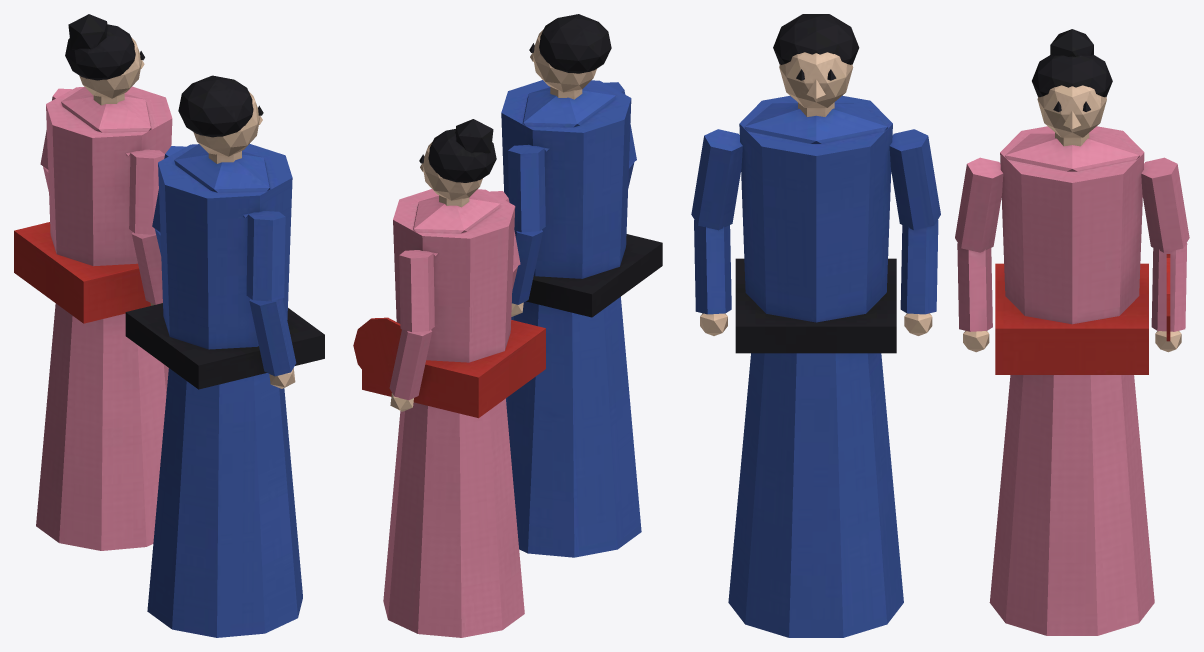
The model's file is yukatapar_tex.glb.
3 renders of one model, left to right at view 1: azimuth 30°, elevation 25°; view 2: azimuth 150°, elevation 25°; view 3: azimuth 270°, elevation 25°, orthographic. The views are drawn at different scales.
Parts seen in each view (by area): view 1: yukatapar; view 2: yukatapar; view 3: yukatapar.
Part boxes in pixels (left/top/right/bottom): yukatapar: left=14, top=14, right=324, bottom=637; yukatapar: left=353, top=14, right=662, bottom=637; yukatapar: left=691, top=14, right=1189, bottom=637.
Size of the model in its own units: 0.4565 by 1.76 by 1.36.
Materials: 7 (7 with a texture image).
